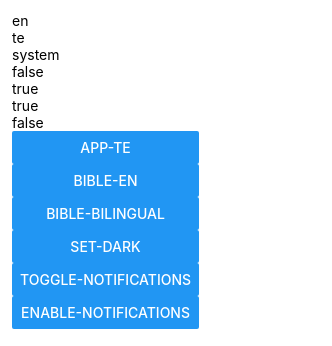
Test case: the two language preferences are independent › changing the app language leaves the Bible mode where it was
The image size is (332, 346).
Check: the text with test id "isLoaded" reads "true", box left=12, top=97, right=38, bottom=114
Click the button with test id "set-app-language-te". click: (106, 148)
box: left=12, top=131, right=199, bottom=164
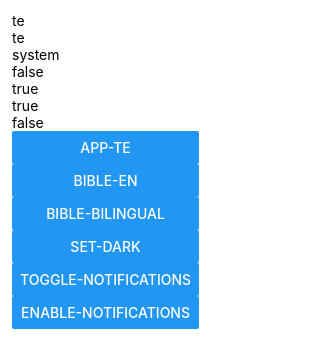
Check: the text with test id "bibleMode" reads "te", box left=12, top=29, right=25, bottom=46
Check: the text with test id "appLanguage" reads "te", box left=12, top=12, right=25, bottom=29
